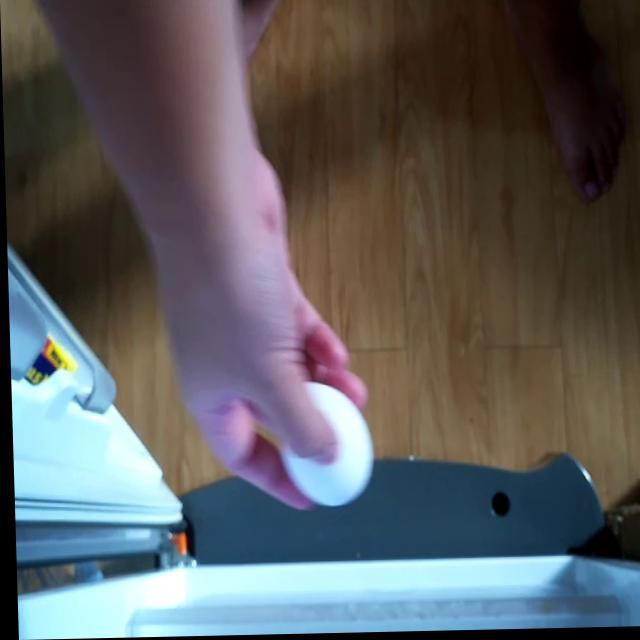egg: (268, 383, 373, 513)
